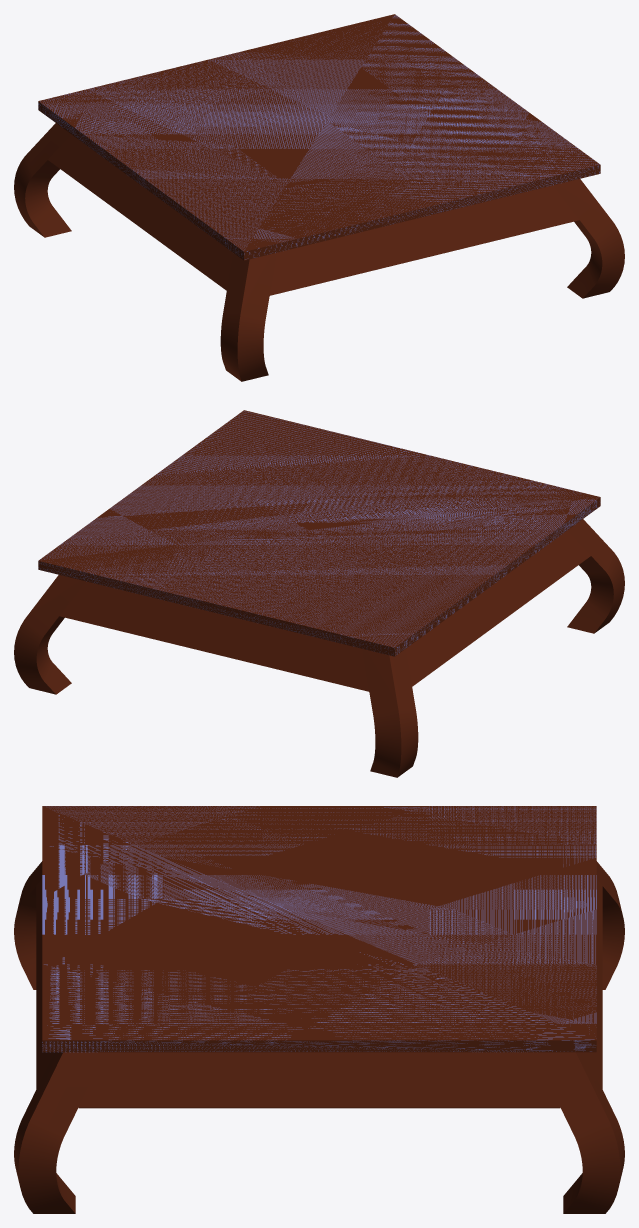
The model's file is table_chinese.fbx.
3 views of the same model, one above another, from view 1: azimuth 30°, elevation 25°; view 2: azimuth 150°, elevation 25°; view 3: azimuth 270°, elevation 25° (orthographic). The views are drawn at different scales.
Visible parts, largest first — view 1: table_chinoise1, Group1, Group2, Group4; view 2: table_chinoise1, Group4, Group3, Group1; view 3: table_chinoise1, Group2, Group3, Group1, Group4.
Part boxes in pixels (<box>): table_chinoise1: <box>38,14,600,295</box>; Group1: <box>220,253,276,381</box>; Group2: <box>553,179,624,298</box>; Group4: <box>14,123,71,237</box>; table_chinoise1: <box>38,410,600,691</box>; Group4: <box>362,649,418,777</box>; Group3: <box>14,575,85,694</box>; Group1: <box>567,519,624,633</box>; table_chinoise1: <box>36,806,602,1108</box>; Group2: <box>14,1052,105,1213</box>; Group3: <box>533,1052,624,1213</box>; Group1: <box>14,861,42,989</box>; Group4: <box>596,861,624,989</box>.
Size of the model in its own units: 45.56 by 13.98 by 45.56.
